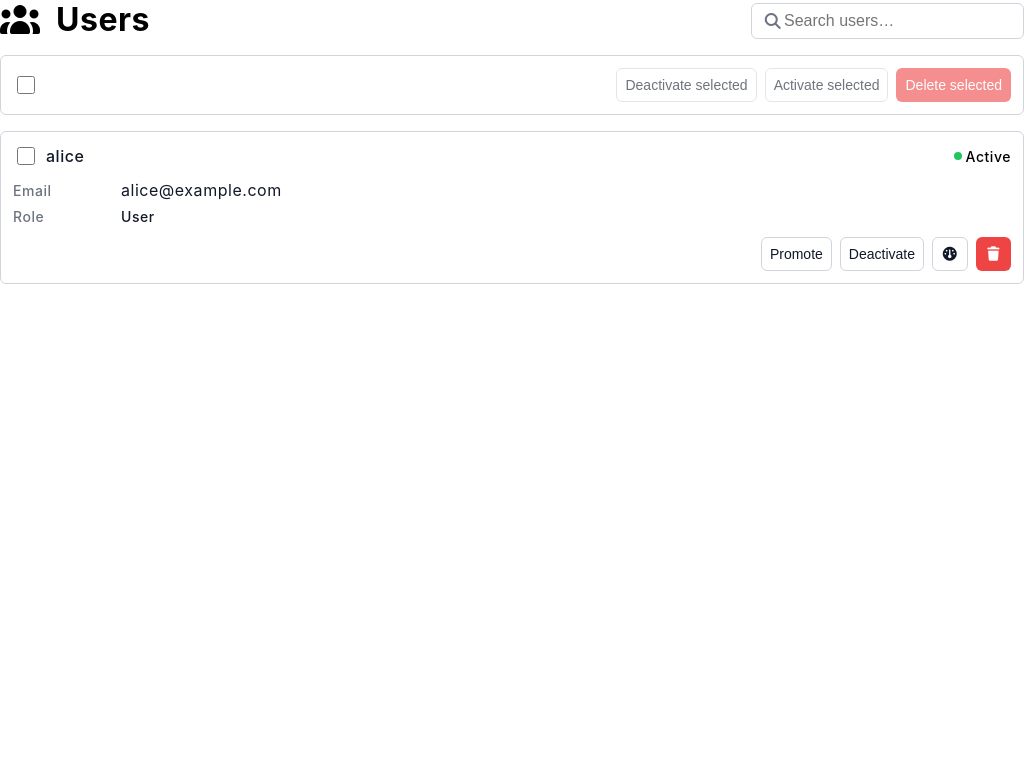
Test case: UsersView › saves a custom quota converted from MiB to bytes
This screenshot has width=1024, height=768.
Click the button named "Upload quota for alice" at [950, 254], box [932,237,968,271]
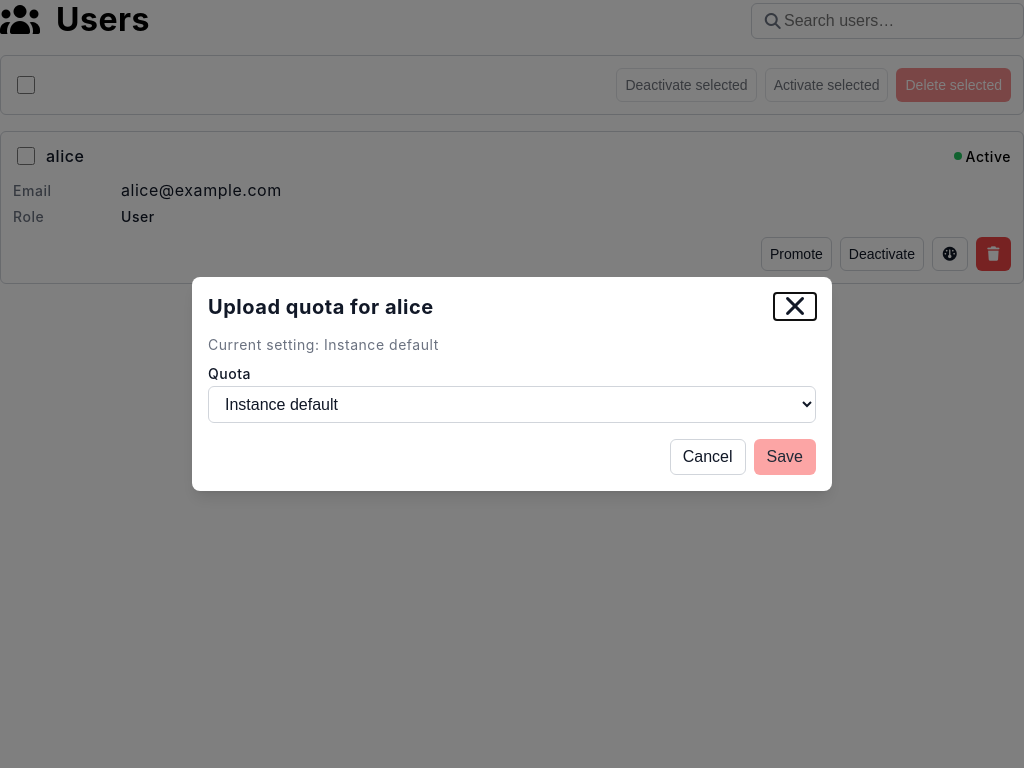
Expected: the dialog with class "app-modal" is shown, [192,277,832,491]
Select "Custom" in the dropdown labelled "Quota" at [512, 404], box [208,386,816,423]
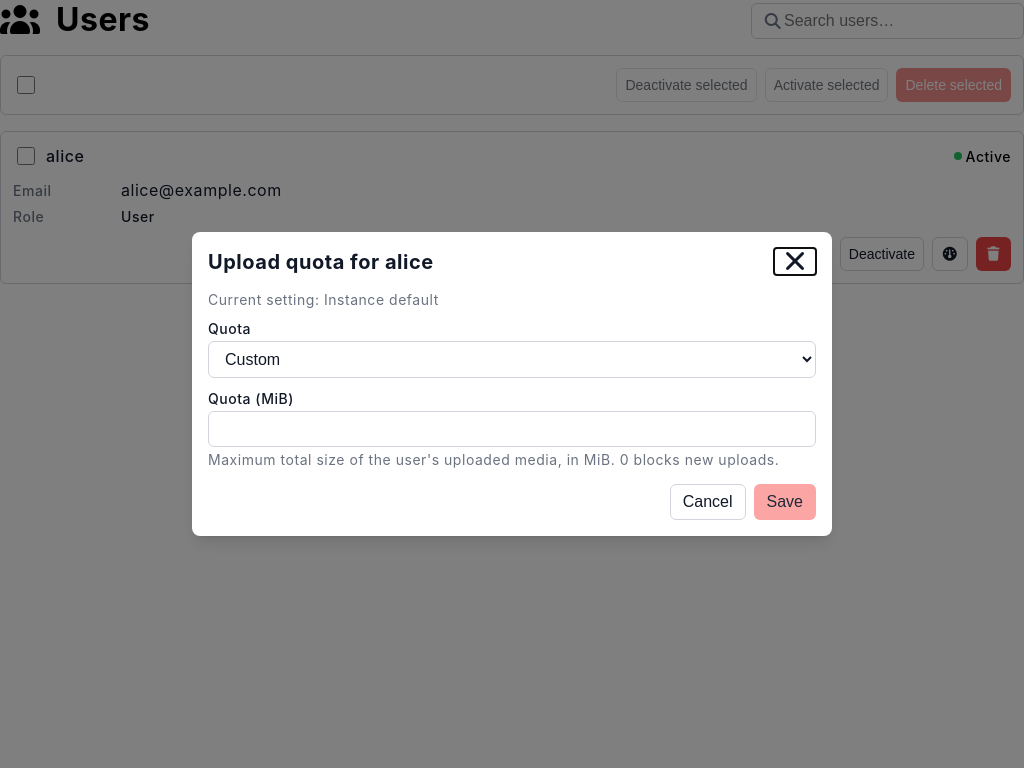
Type "10" into the number field labelled "Quota (MiB)" at [512, 429], box [208,411,816,447]
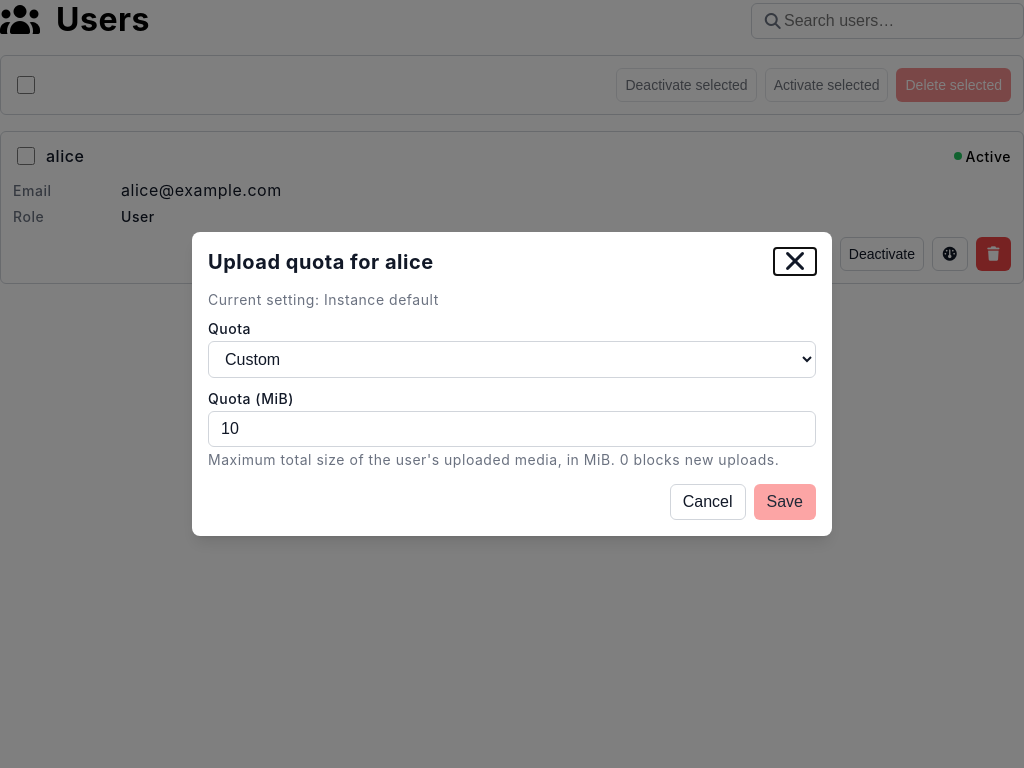
Expected: the button "Save" is shown
Click the button "Save" at [785, 502], box [754,484,816,520]
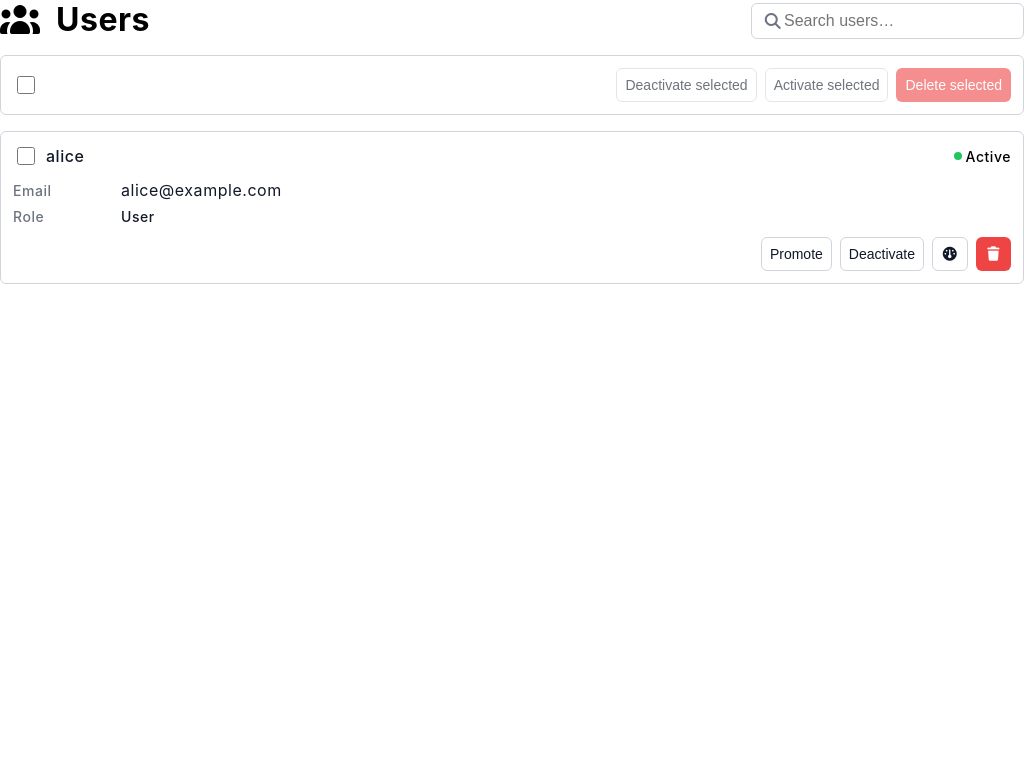
Expected: the dialog with class "app-modal" is gone
